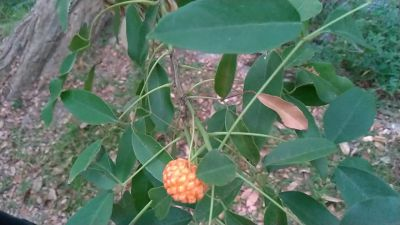eggs: (162, 156, 208, 201)
